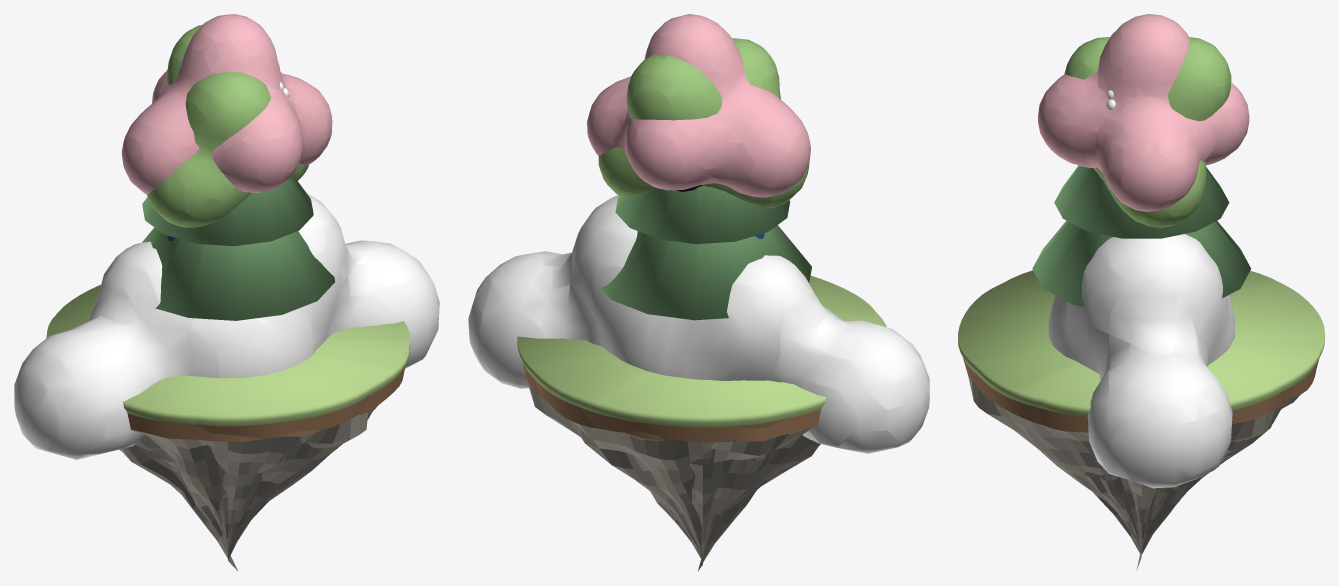
The model's file is axd.glb.
3 views of the same model, side by side, from view 1: azimuth 30°, elevation 25°; view 2: azimuth 150°, elevation 25°; view 3: azimuth 270°, elevation 25° (orthographic).
Visible parts, largest first — view 1: Cloud, Island_A, Tree_Blossom, Tree_Pine, Island_B, Tree_Round; view 2: Cloud, Island_A, Tree_Blossom, Tree_Pine, Island_B, Tree_Round; view 3: Cloud, Tree_Blossom, Island_A, Island_B, Tree_Pine, Tree_Round.
Part boxes in pixels (bbox=[...]): Cloud: bbox=[14, 193, 439, 459]; Island_A: bbox=[46, 284, 410, 570]; Tree_Blossom: bbox=[121, 14, 332, 194]; Tree_Pine: bbox=[142, 177, 335, 320]; Island_B: bbox=[47, 300, 409, 569]; Tree_Round: bbox=[147, 25, 308, 227]; Cloud: bbox=[468, 195, 929, 453]; Island_A: bbox=[517, 275, 882, 570]; Tree_Blossom: bbox=[587, 14, 810, 197]; Tree_Pine: bbox=[601, 186, 811, 320]; Island_B: bbox=[517, 276, 886, 567]; Tree_Round: bbox=[598, 38, 809, 207]; Cloud: bbox=[1048, 234, 1234, 488]; Tree_Blossom: bbox=[1038, 14, 1249, 211]; Island_A: bbox=[958, 272, 1324, 570]; Island_B: bbox=[960, 270, 1322, 568]; Tree_Pine: bbox=[1032, 165, 1251, 306]; Tree_Round: bbox=[1064, 37, 1231, 227].
Size of the model in its own units: 2.68 by 3.35 by 2.01.
